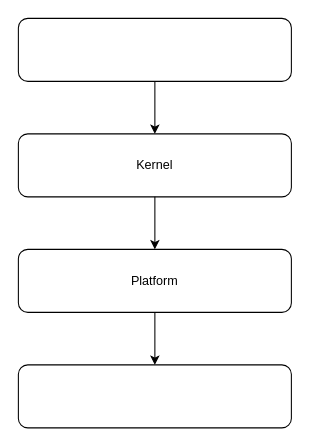
Image size: 310x446. Some labels were removed from this diagram. The shapes that lost their labels are listed below. From the top down, each one's box as (x1, y1, x2, y2) in pixels, then its label:
(17, 17, 291, 81): Applications
(17, 364, 291, 428): Components
